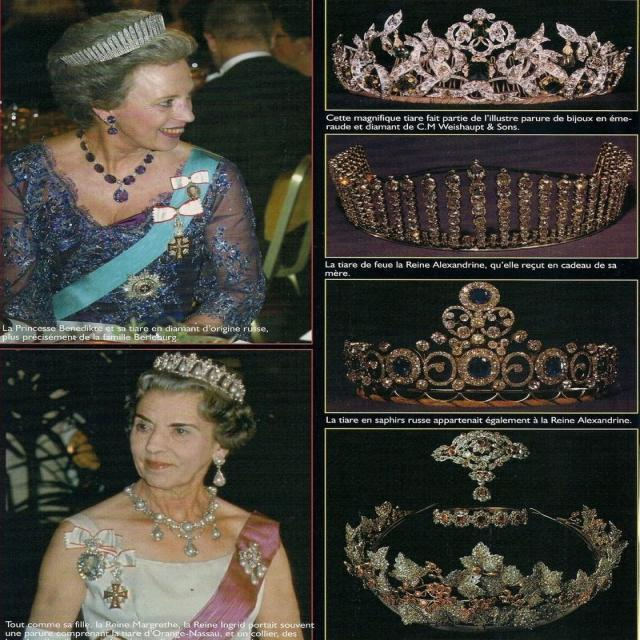Earring: (204, 445, 238, 496), (95, 111, 124, 142)
